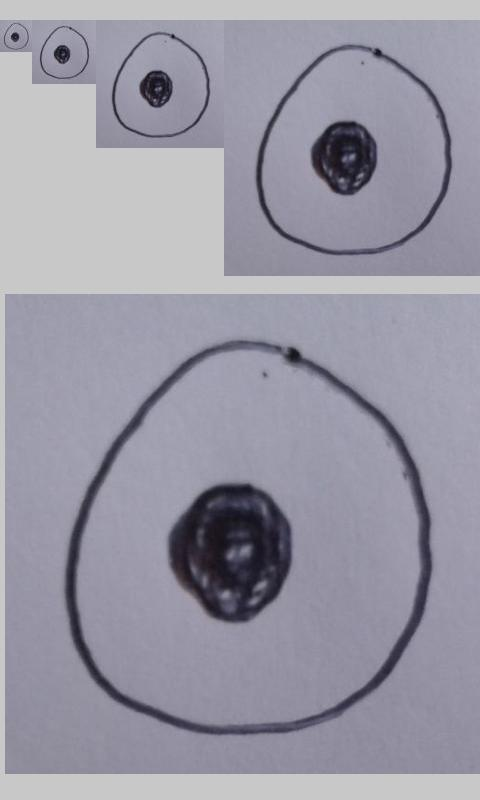radio_button: (62, 337, 436, 739), (255, 42, 452, 258), (110, 30, 211, 139), (39, 24, 89, 80), (3, 22, 30, 50)
